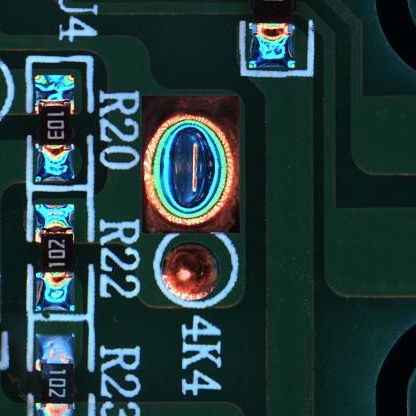spot: (152, 117, 232, 224), (161, 244, 220, 298)
